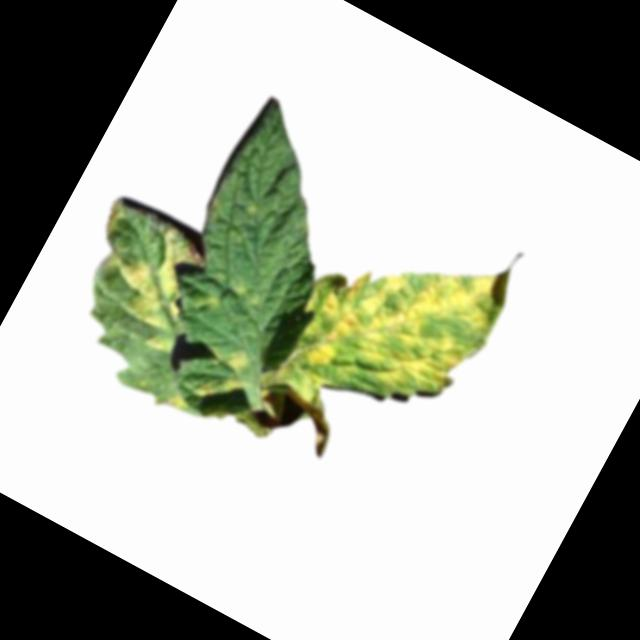Leaf_Mold: (267, 192, 524, 464), (94, 218, 224, 359), (203, 337, 254, 378), (218, 368, 251, 398), (162, 385, 193, 414), (190, 373, 218, 400)
